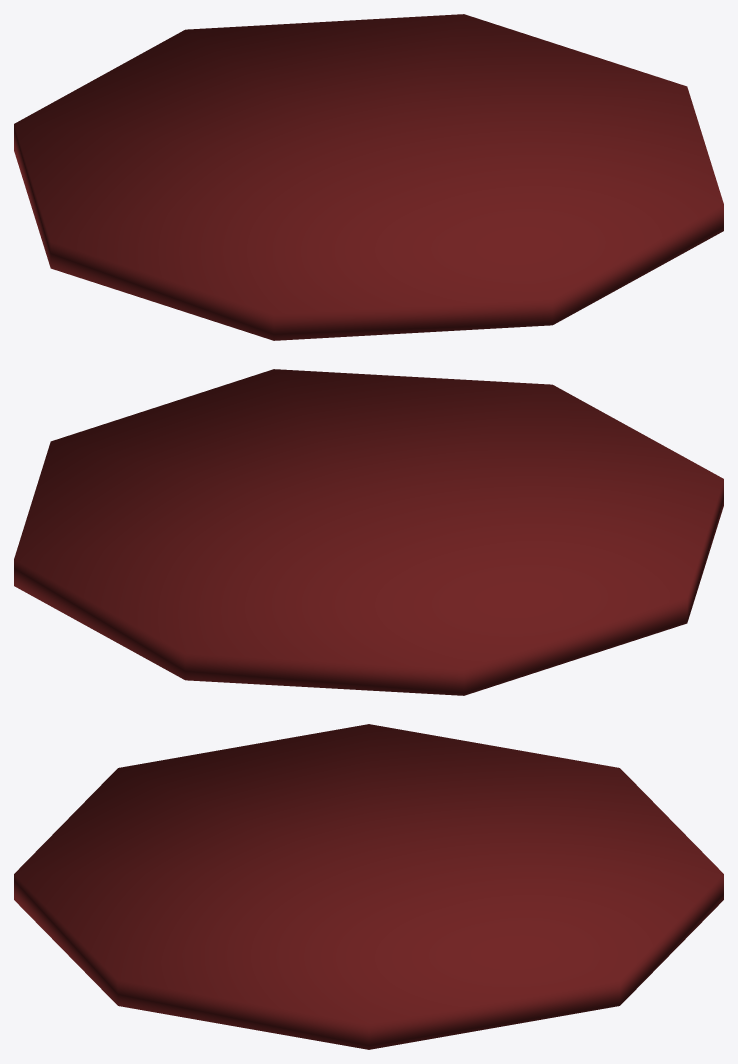
Rendered from sucuk.fbx.
The picture shows the model from 3 angles, top to bottom: view 1: azimuth 30°, elevation 25°; view 2: azimuth 150°, elevation 25°; view 3: azimuth 270°, elevation 25°; orthographic projection. The views are drawn at different scales.
Parts seen in each view (by area): view 1: pizza.001; view 2: pizza.001; view 3: pizza.001.
Boxes of the visible parts, x1,y1,x2,y2 form: pizza.001: [14, 14, 723, 340]; pizza.001: [14, 369, 723, 695]; pizza.001: [14, 724, 723, 1049].
Size of the model in its own units: 581 by 23.27 by 581.
